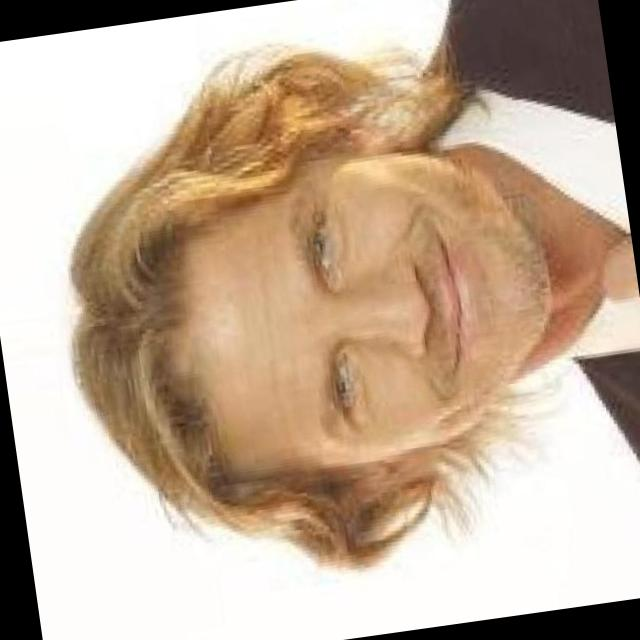bareface: (34, 86, 568, 548)
